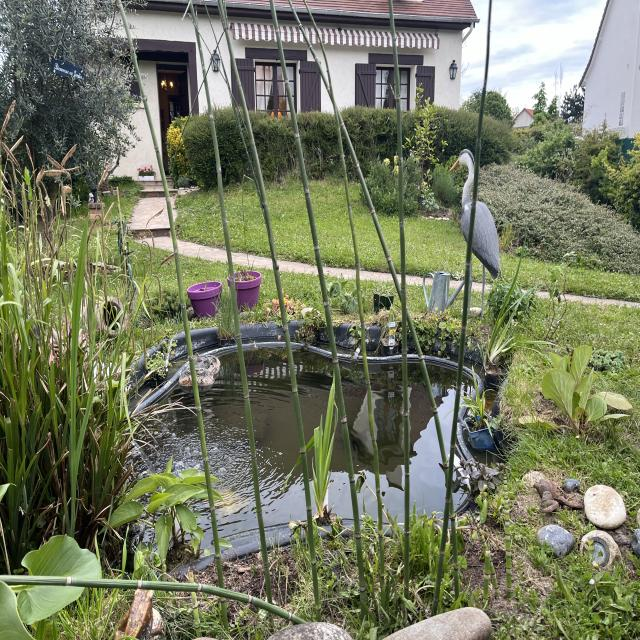Heron: (445, 136, 518, 338)
